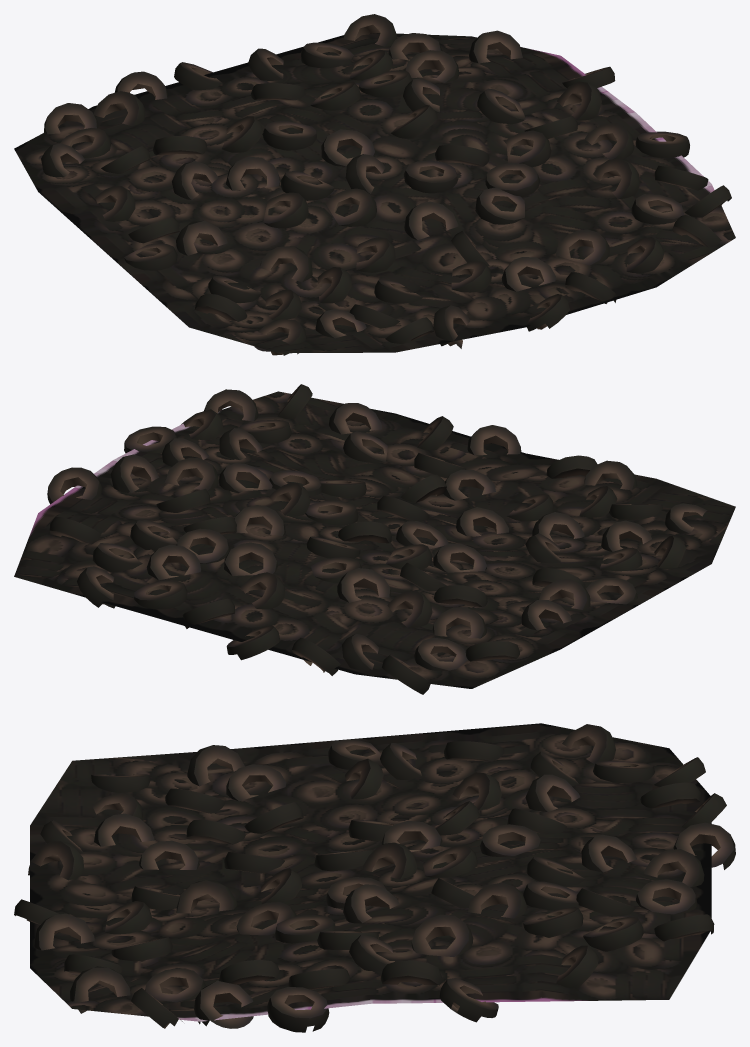
The model's file is SM_Ingredients_01b.fbx.
The picture shows the model from 3 angles, top to bottom: view 1: azimuth 30°, elevation 25°; view 2: azimuth 150°, elevation 25°; view 3: azimuth 270°, elevation 25°; orthographic projection. The views are drawn at different scales.
Visible parts, largest first — view 1: SM_Ingredients_01b_LOD0; view 2: SM_Ingredients_01b_LOD0; view 3: SM_Ingredients_01b_LOD0.
Boxes of the visible parts, x1,y1,x2,y2 form: SM_Ingredients_01b_LOD0: (14,14,735,355); SM_Ingredients_01b_LOD0: (14,384,735,694); SM_Ingredients_01b_LOD0: (14,723,735,1032).
Size of the model in its own units: 20.96 by 21.4 by 2.87.
